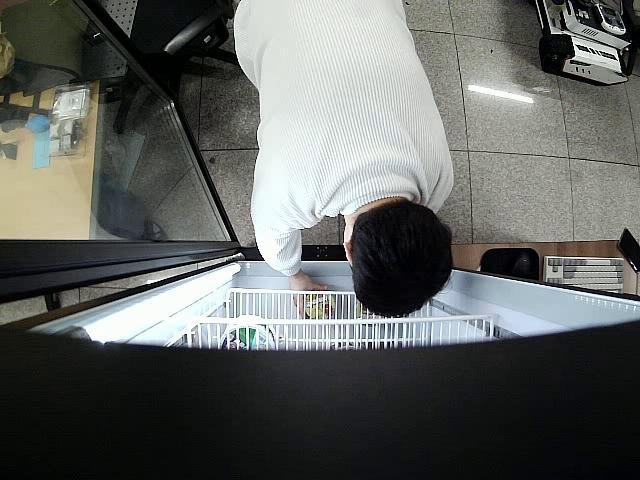04_chapagetti_S: (302, 289, 336, 320)
